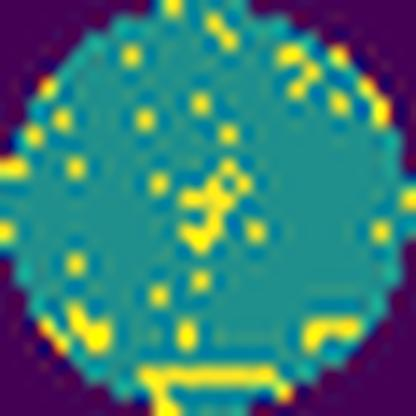Scratch: (167, 154, 254, 264), (132, 357, 291, 416)
